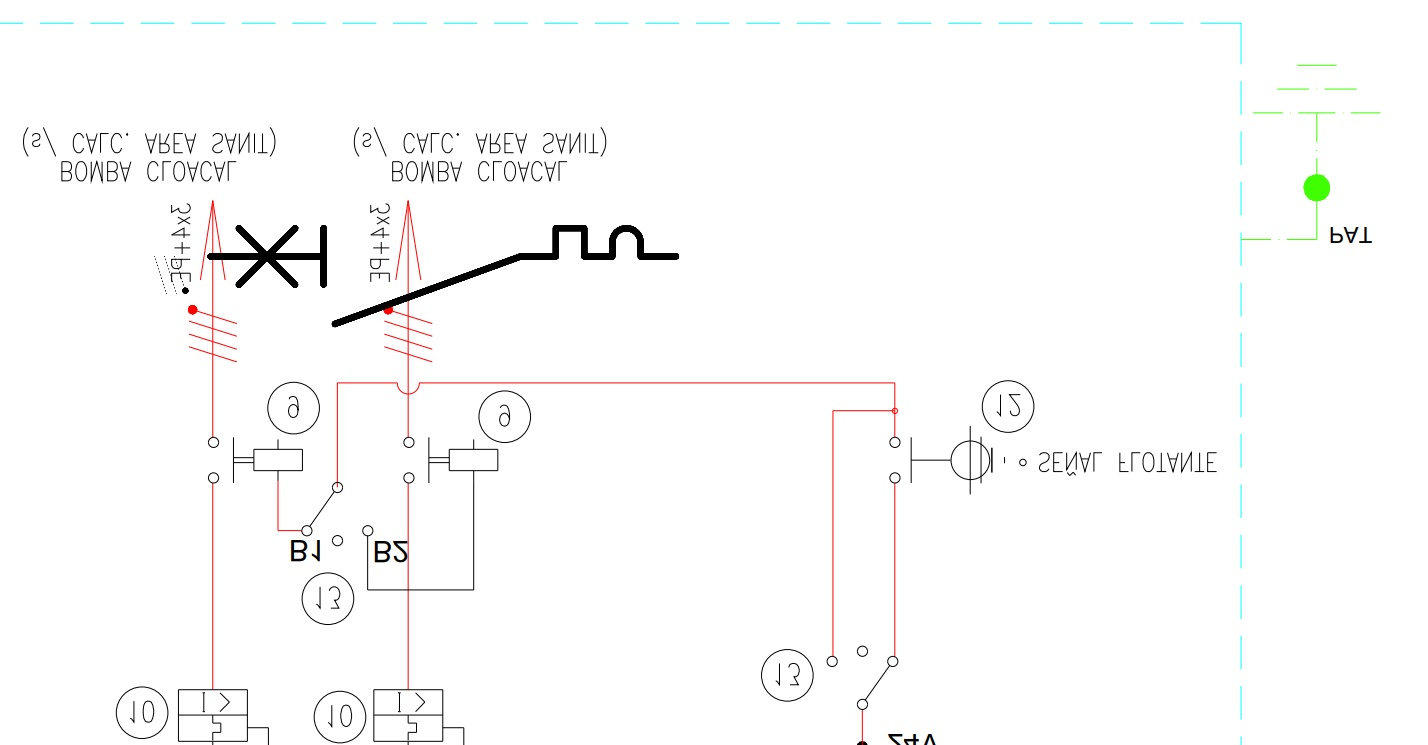interruptor_termomagnetico: (198, 216, 687, 335)
